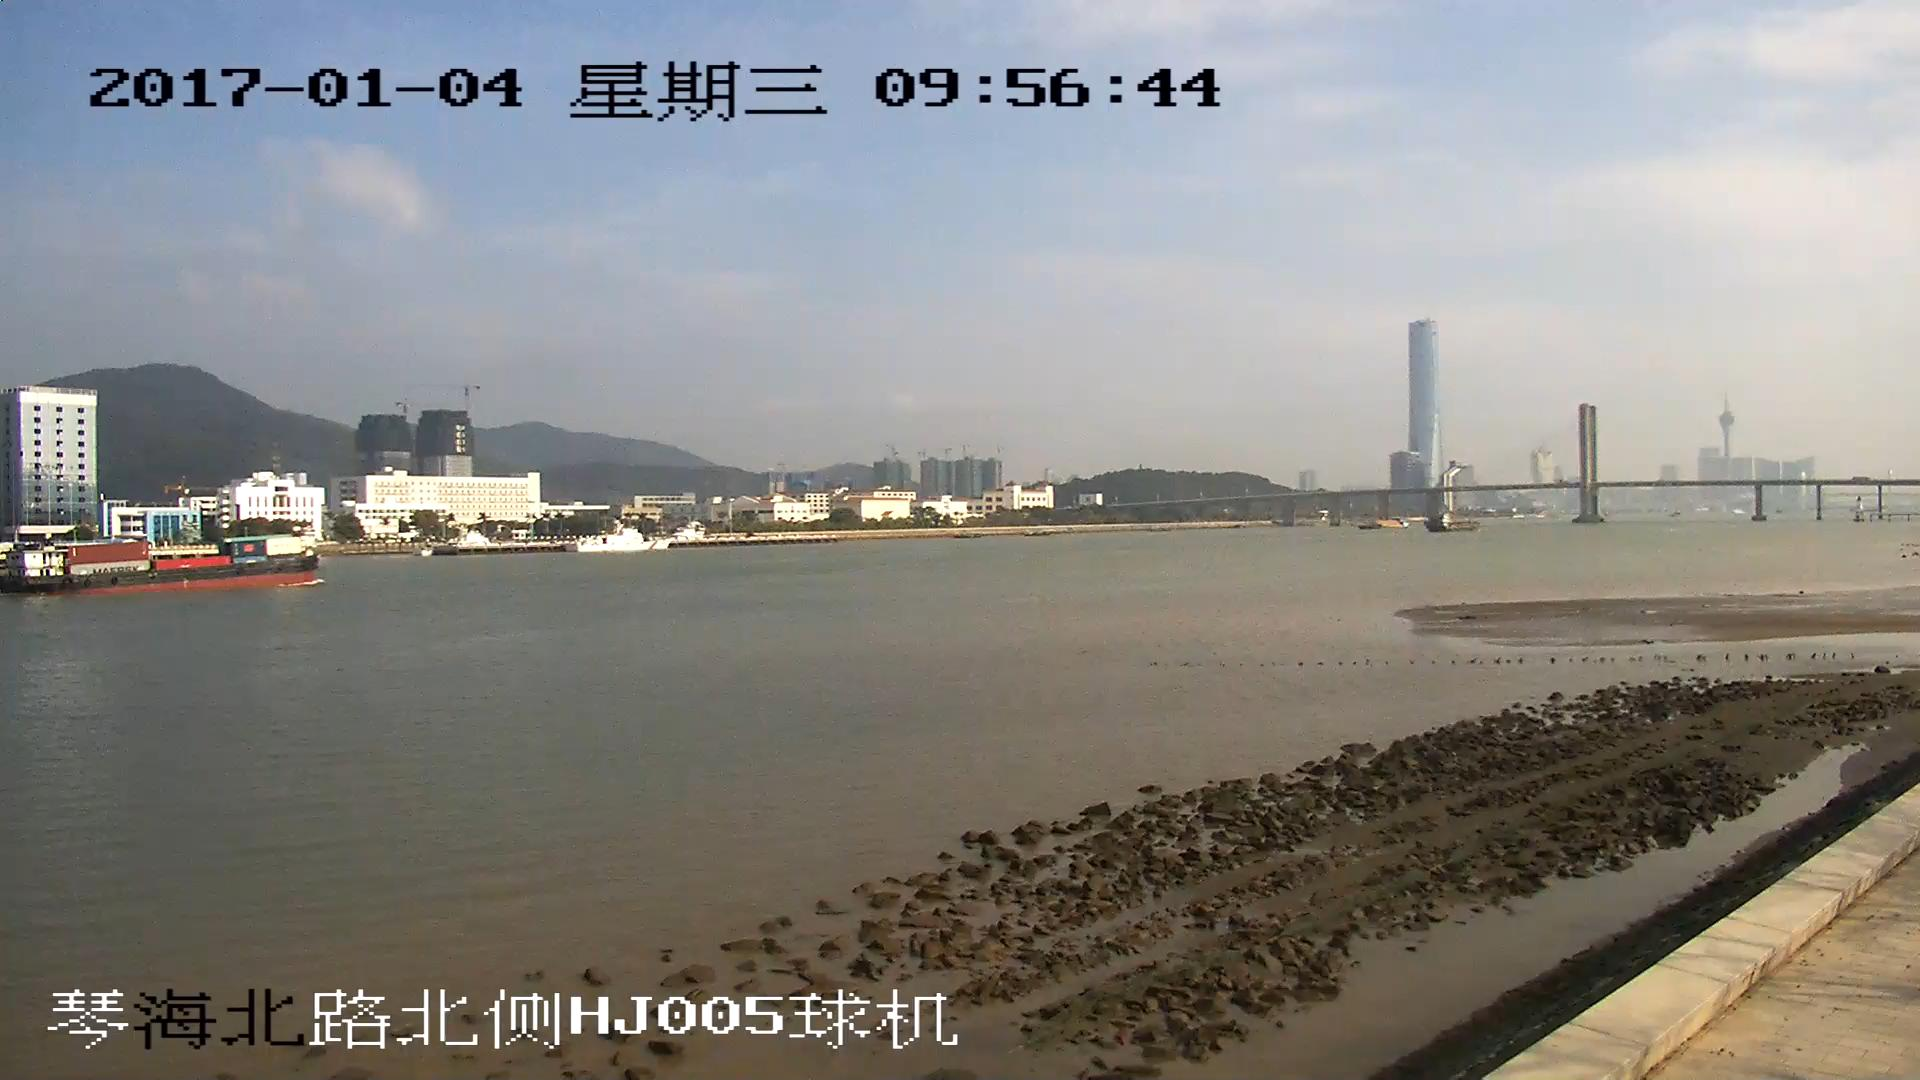container ship: (1, 531, 321, 589)
